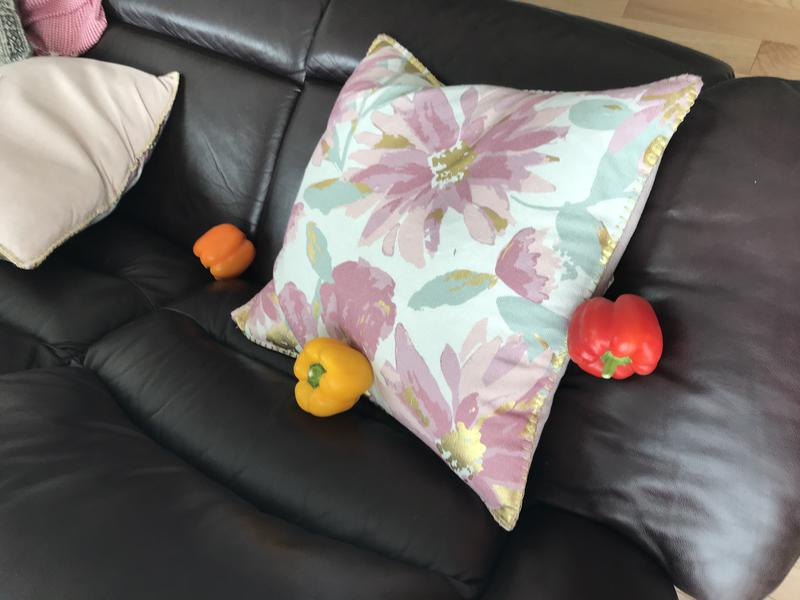orange_pepper: (188, 213, 263, 286)
red_pepper: (562, 291, 667, 390)
yellow_pepper: (286, 331, 379, 427)
